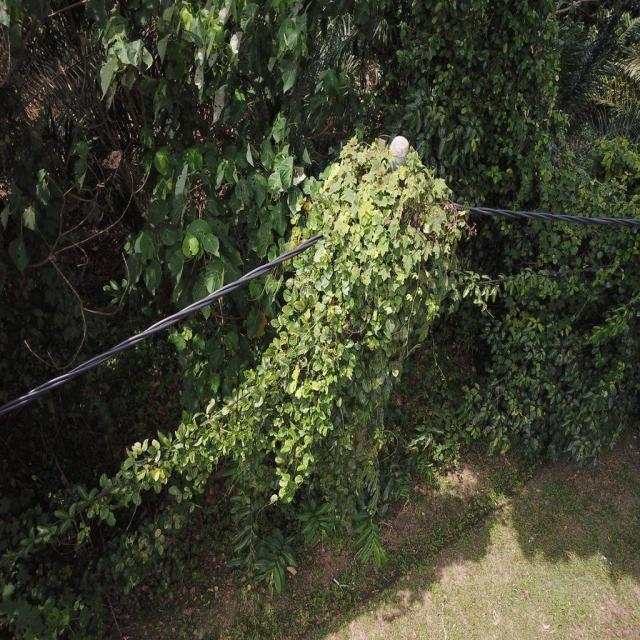critical vegetation: (58, 130, 476, 538)
